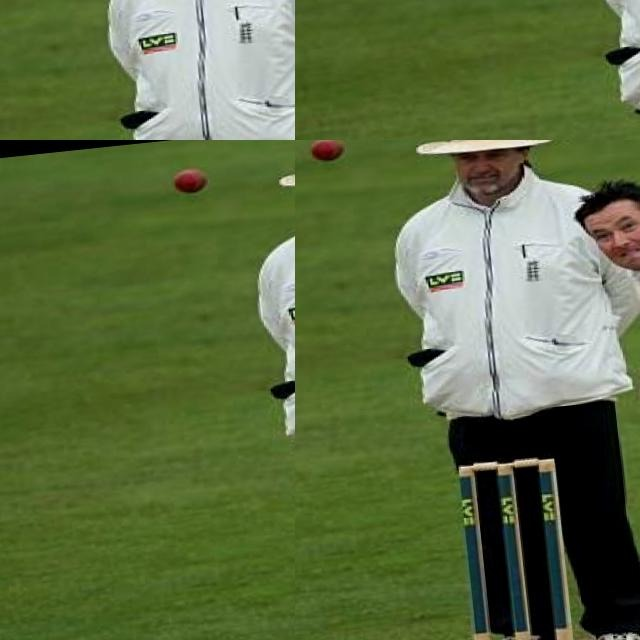No_Action: (137, 140, 295, 640)
No_Ball: (295, 140, 640, 640)
Six: (493, 0, 640, 140)
